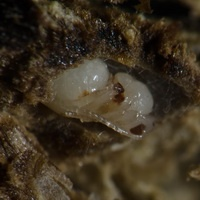insect: (46, 57, 154, 140)
